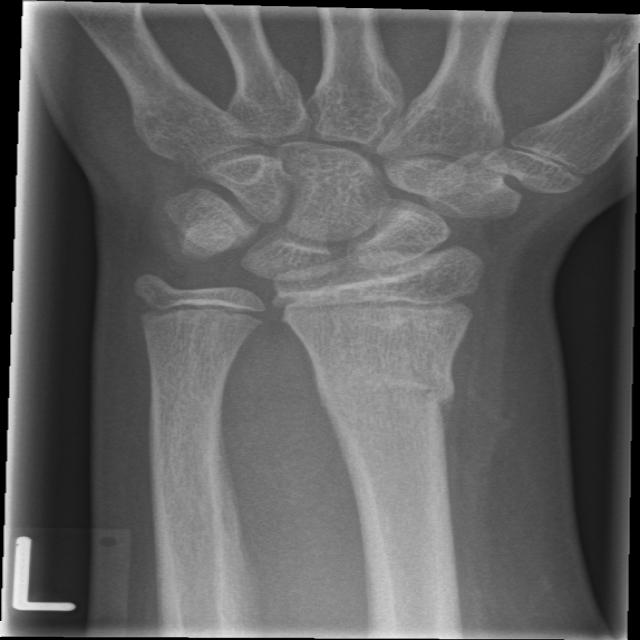radius fracture: (298, 323, 504, 544)
